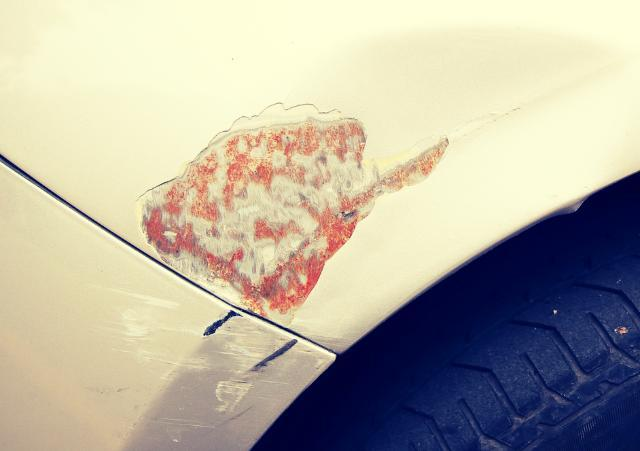Bumper: (11, 269, 323, 445)
Fender: (79, 60, 488, 338)
